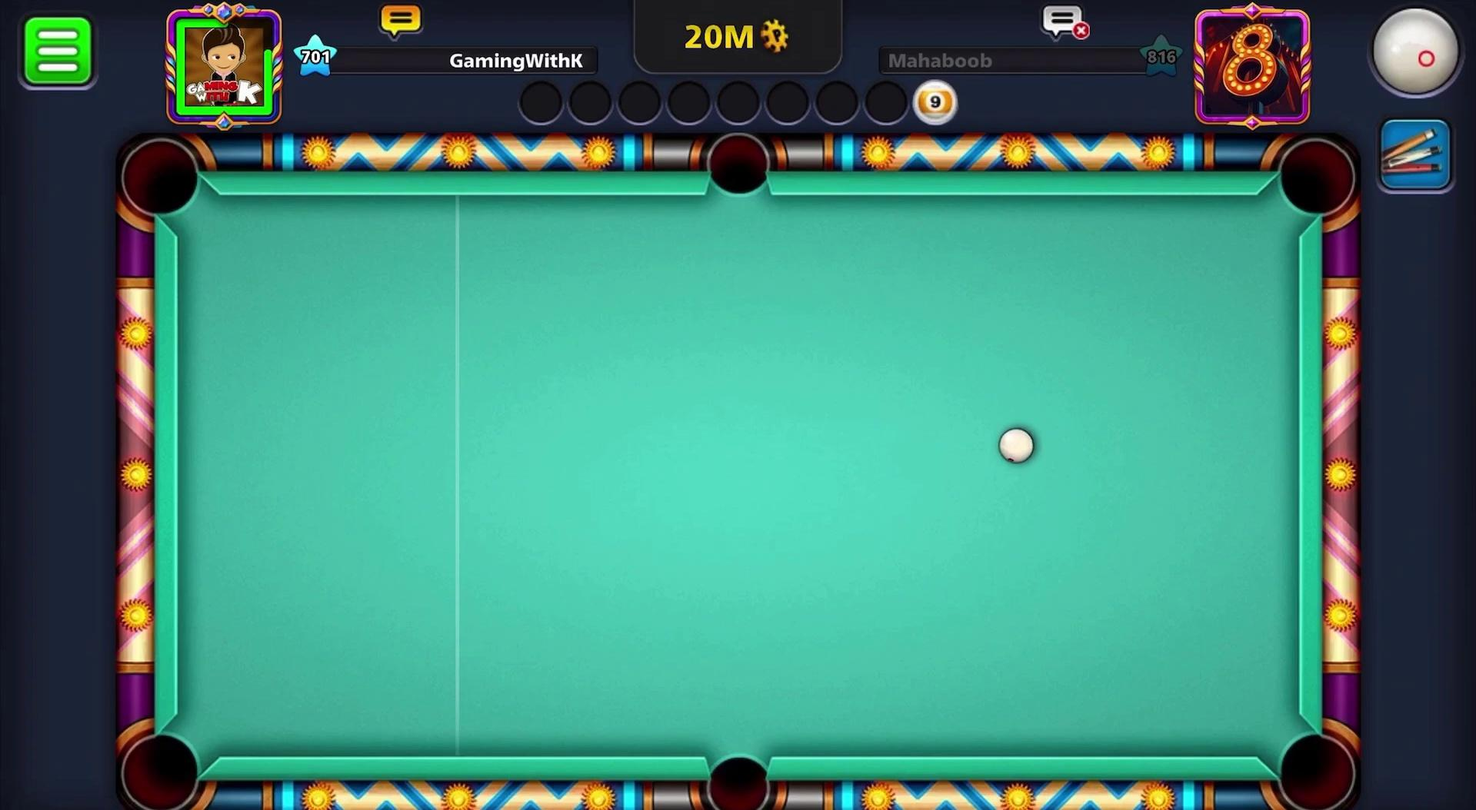Hole: (108, 128, 214, 231), (1268, 132, 1364, 231), (110, 717, 213, 809), (1264, 716, 1364, 809), (685, 734, 786, 809), (696, 129, 780, 207)
Play_Area: (175, 194, 1301, 759)
Spin: (1347, 0, 1475, 114)
White: (994, 421, 1040, 470)
